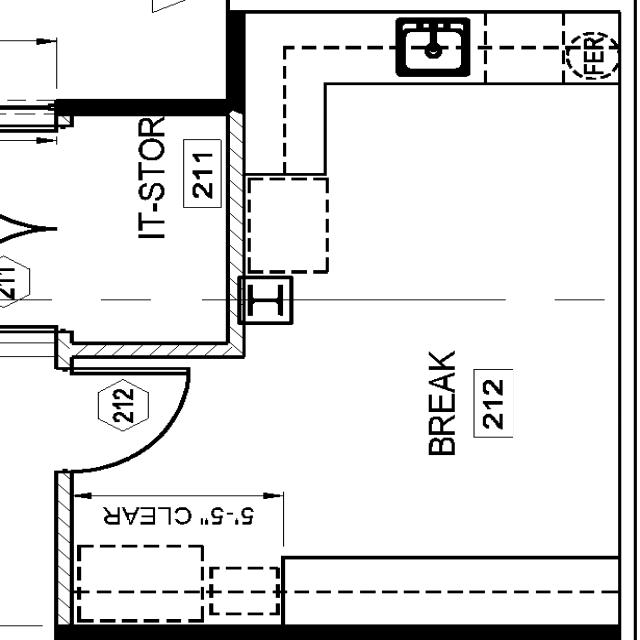Doors: (61, 360, 199, 477)
